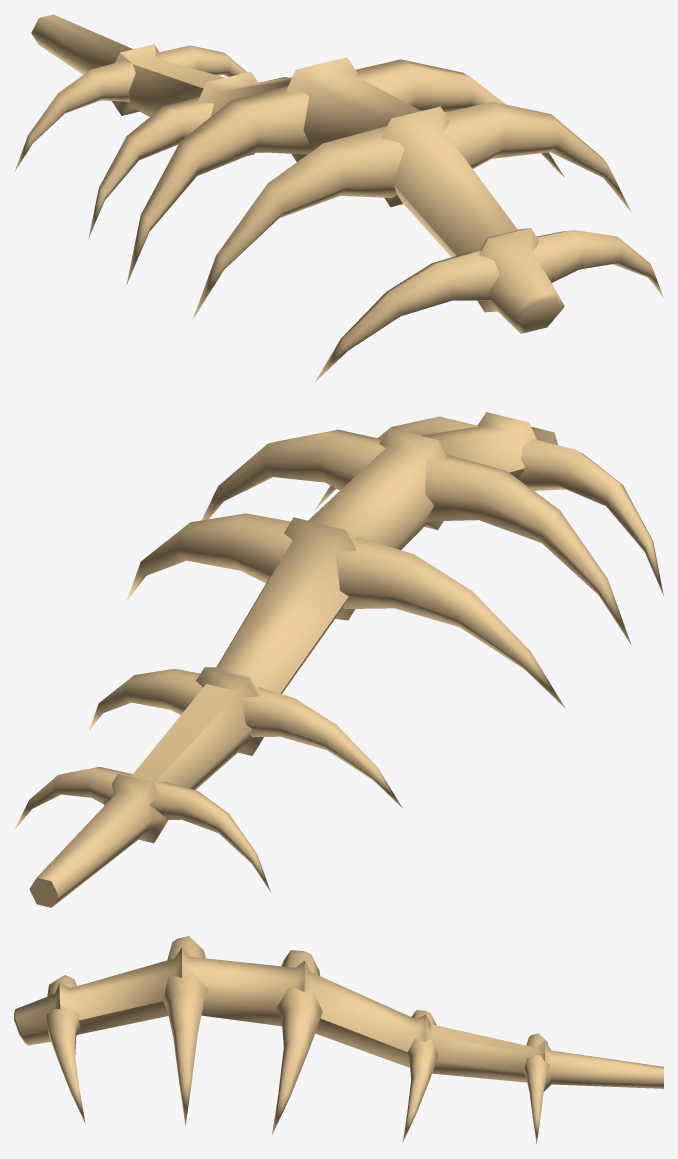
Rendered from body.FBX.
The picture shows the model from 3 angles, top to bottom: view 1: azimuth 30°, elevation 25°; view 2: azimuth 150°, elevation 25°; view 3: azimuth 270°, elevation 25°; orthographic projection. The views are drawn at different scales.
Visible parts, largest first — view 1: Cylinder001; view 2: Cylinder001; view 3: Cylinder001.
Part boxes in pixels (box(x1,y1,x2,y2)): Cylinder001: box(14, 14, 663, 382); Cylinder001: box(14, 412, 663, 907); Cylinder001: box(14, 936, 663, 1143).
Size of the model in its own units: 124 by 61.43 by 243.
